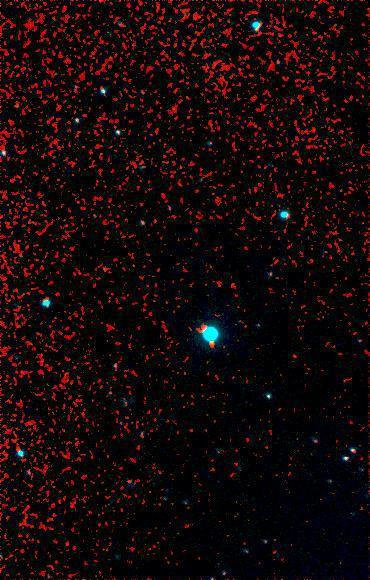star: (198, 331, 228, 361)
